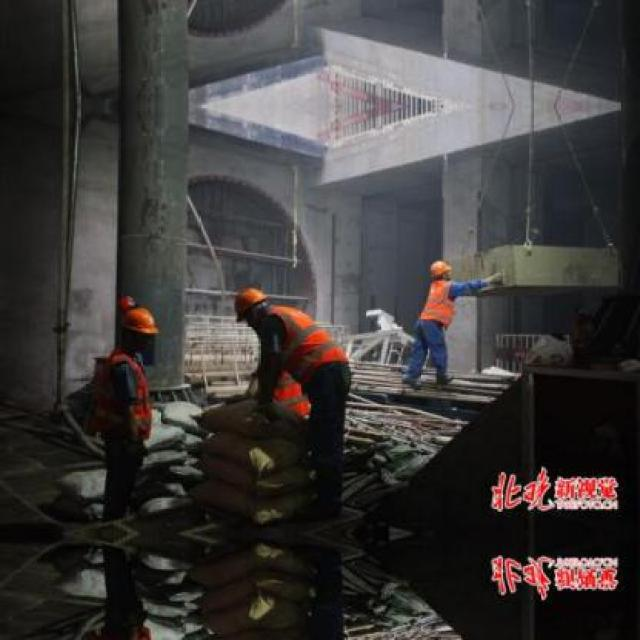helmet: (118, 303, 156, 352), (232, 284, 270, 324), (429, 256, 454, 284)
